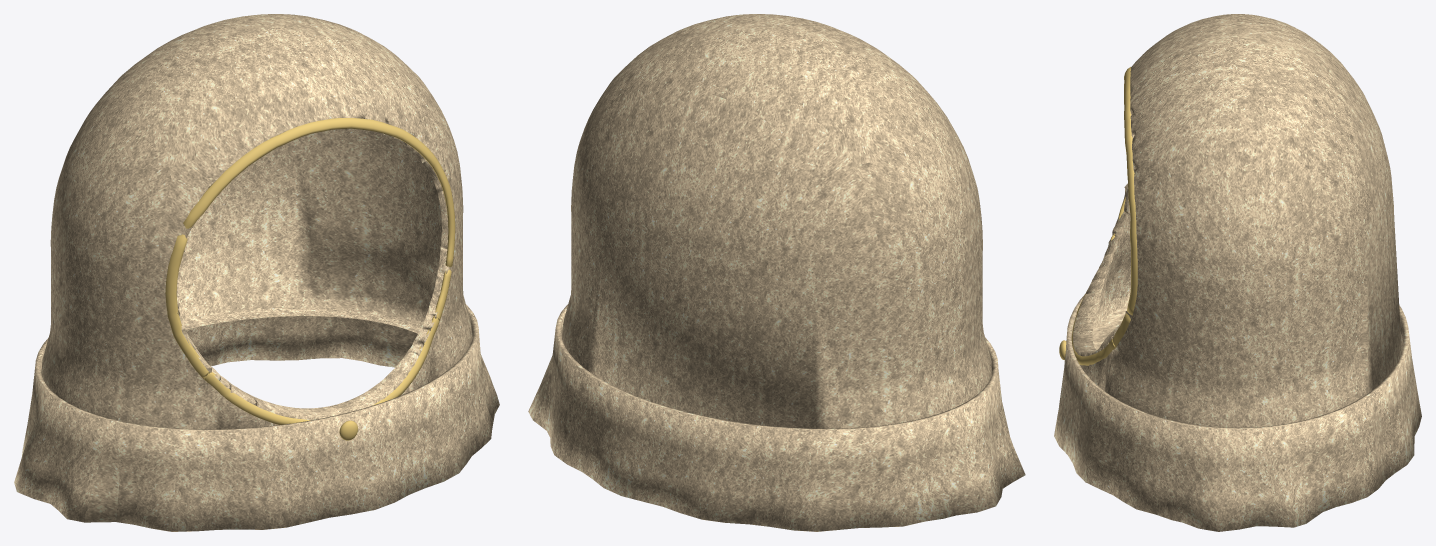
Rendered from hijab2.fbx.
3 renders of one model, left to right at view 1: azimuth 30°, elevation 25°; view 2: azimuth 150°, elevation 25°; view 3: azimuth 270°, elevation 25°, orthographic. The views are drawn at different scales.
Parts seen in each view (by area): view 1: hijab2; view 2: hijab2; view 3: hijab2.
Boxes of the visible parts, x1,y1,x2,y2 form: hijab2: (14,14,499,531); hijab2: (528,14,1025,531); hijab2: (1054,14,1421,531).
Bounding box in the file's own units: 1 × 0.8699 × 0.734.
2 materials, 1 textured.
